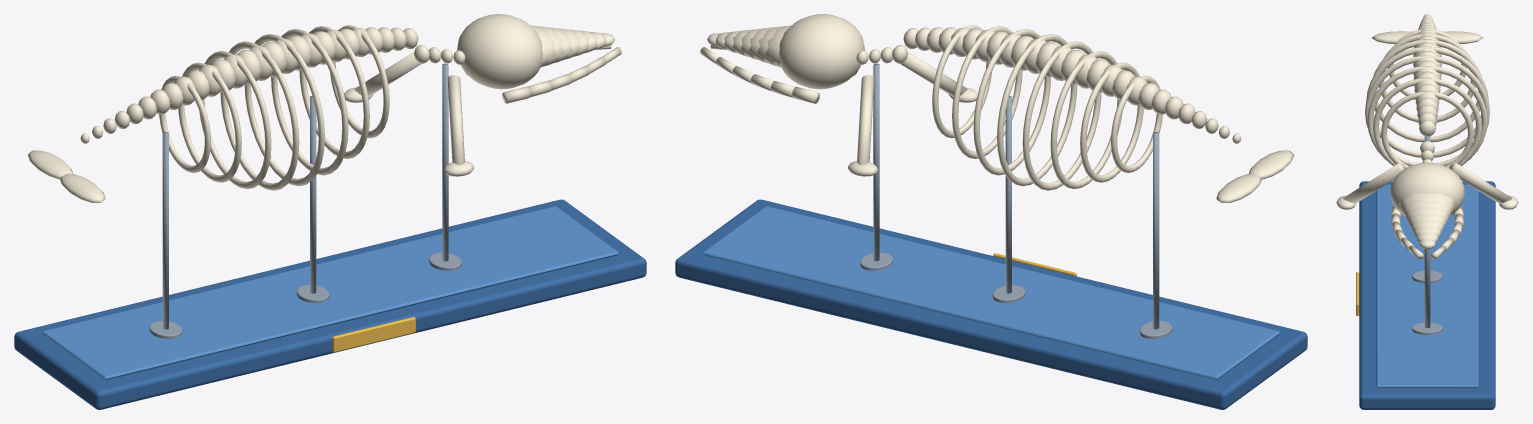
File: whale.glb
3 views of the same model, side by side, from view 1: azimuth 30°, elevation 25°; view 2: azimuth 150°, elevation 25°; view 3: azimuth 270°, elevation 25° (orthographic). The views are drawn at different scales.
Parts seen in each view (by area): view 1: whale; view 2: whale; view 3: whale.
Boxes of the visible parts, left/top/right/bottom form: whale: left=14, top=14, right=646, bottom=409; whale: left=675, top=14, right=1307, bottom=409; whale: left=1336, top=14, right=1518, bottom=409.
Bounding box in the file's own units: 6.11 × 2.97 × 2.14.
